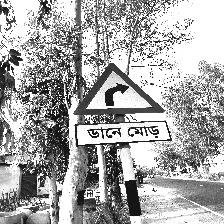Right-turn: (72, 63, 171, 147)
